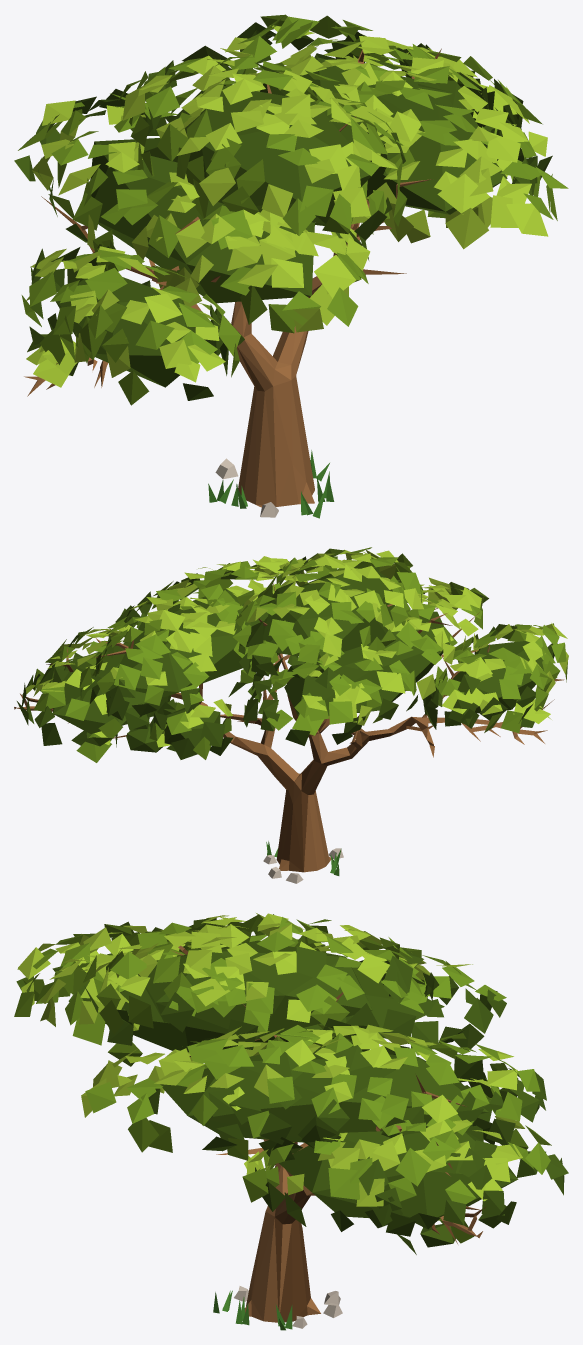
File: acacia_bloom.glb
The picture shows the model from 3 angles, top to bottom: view 1: azimuth 30°, elevation 25°; view 2: azimuth 150°, elevation 25°; view 3: azimuth 270°, elevation 25°; orthographic projection. The views are drawn at different scales.
Parts seen in each view (by area): view 1: acacia_bloom; view 2: acacia_bloom; view 3: acacia_bloom.
Part boxes in pixels (<box>): acacia_bloom: <box>14,14,568,518</box>; acacia_bloom: <box>14,547,568,883</box>; acacia_bloom: <box>14,913,568,1330</box>.
Bounding box in the file's own units: 10.96 × 7.22 × 9.78.
